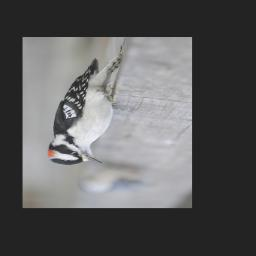Woodpecker: (39, 45, 125, 171)
